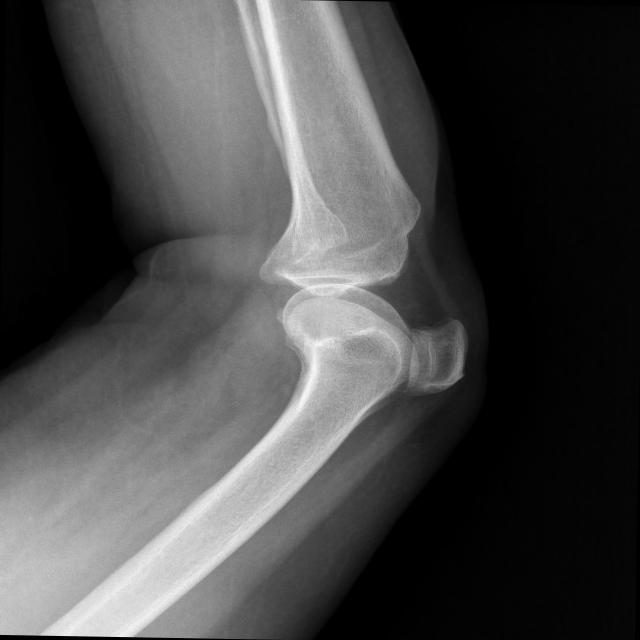Knee: (256, 203, 474, 401)
